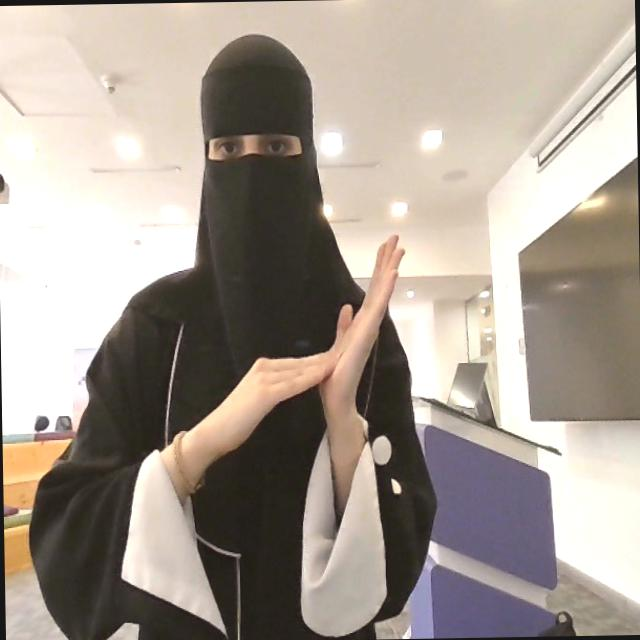complaint: (172, 230, 410, 491)
